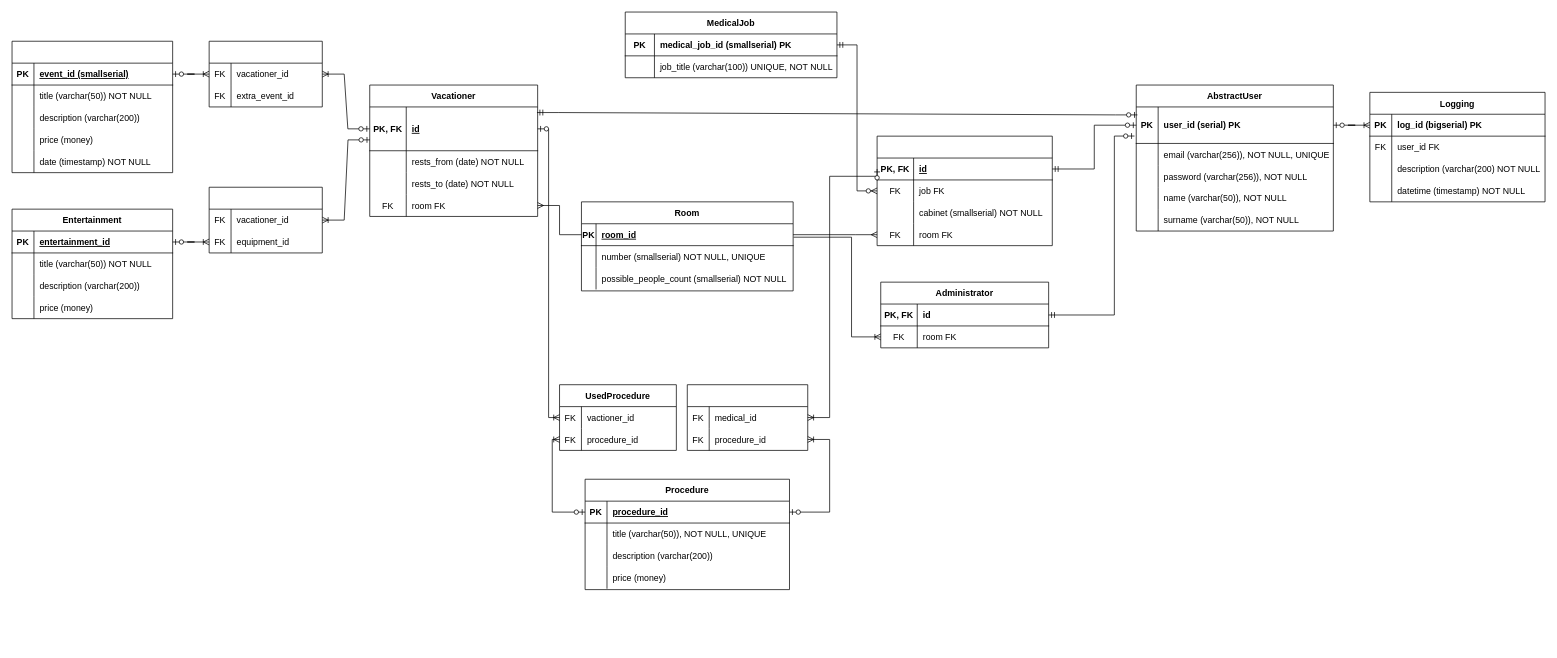
Image size: 1557x658. Some labels were removed from this diagram. Each missing label, with the box of its shape:
ExtraEvent: (11, 41, 173, 173)
MedicalEmployee: (876, 135, 1052, 246)
ServicedProcedure: (687, 384, 808, 450)
UsedEquipment: (208, 187, 322, 253)
ViditedEvent: (208, 41, 322, 107)
